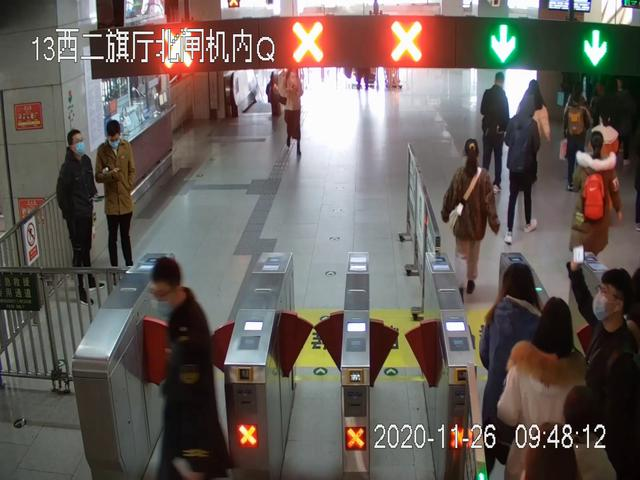person: (495, 297, 595, 480), (150, 257, 230, 480), (480, 264, 559, 480), (567, 247, 640, 480), (440, 138, 500, 306), (56, 129, 104, 304), (570, 132, 624, 280), (96, 119, 138, 277), (503, 101, 540, 243), (480, 70, 508, 192), (560, 83, 591, 190), (278, 66, 306, 158)
